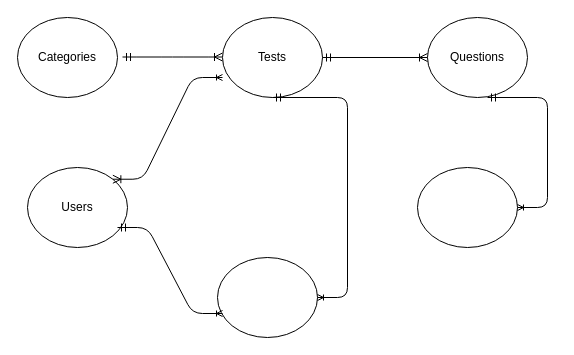
This 574x355 diagram has some shape labels left out. The centre of each missing label's shape, as x and y in pixels:
Answers: (467,207)
TestUsers: (267,297)
